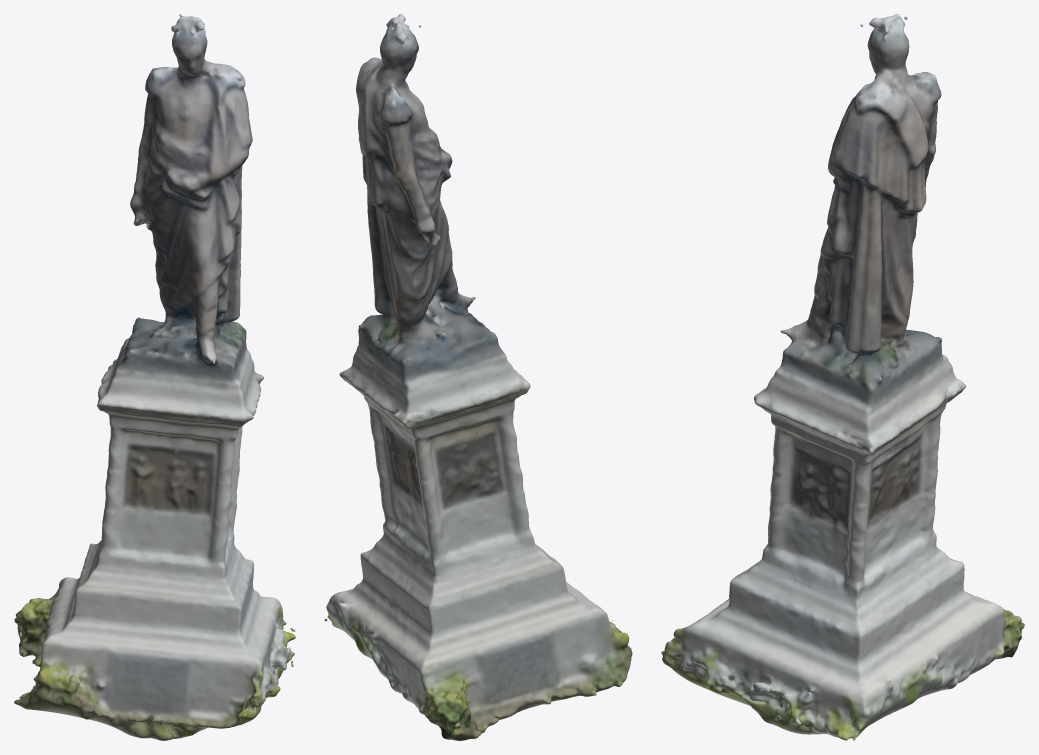
File: monumento_a_simon_bolivar.glb
3 renders of one model, left to right at view 1: azimuth 30°, elevation 25°; view 2: azimuth 150°, elevation 25°; view 3: azimuth 270°, elevation 25°, orthographic. The views are drawn at different scales.
Parts seen in each view (by area): view 1: Object_2; view 2: Object_2; view 3: Object_2.
Part boxes in pixels (x1,y1,x2,y2): Object_2: [14, 14, 295, 740]; Object_2: [324, 14, 632, 740]; Object_2: [661, 14, 1024, 740].
Size of the model in its own units: 0.9511 by 2.1 by 0.963.
